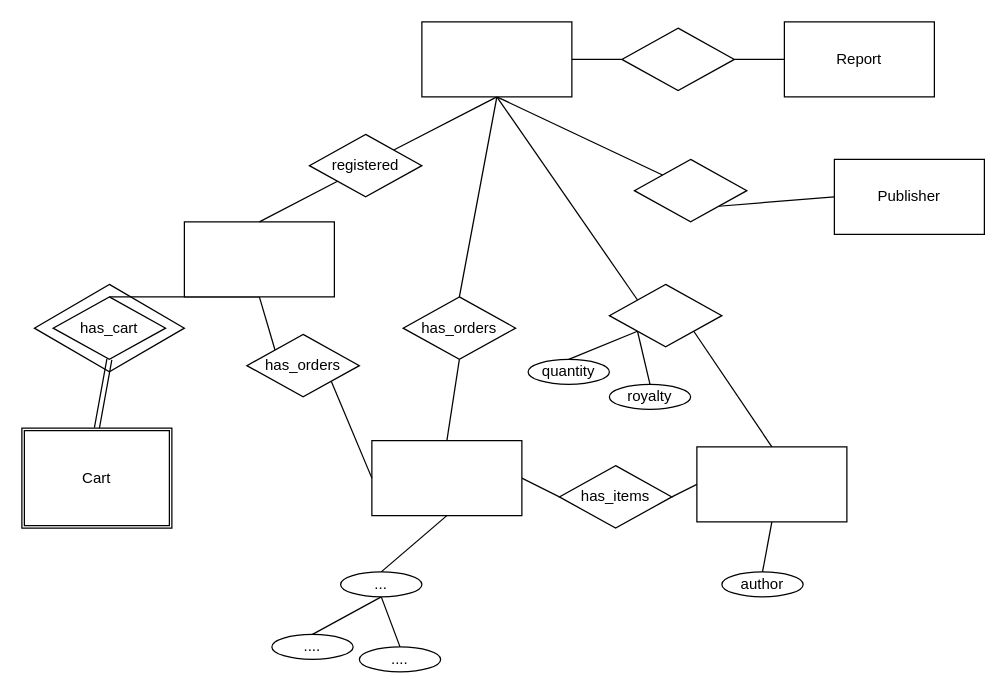
This 1006x694 diagram has some shape labels left out. The box of each missing label's shape, as (x1, y1, x2, y2) in pixels:
Book: (696, 446, 847, 522)
Bookstore: (421, 21, 572, 97)
has_books: (608, 283, 722, 347)
has_publishers: (633, 158, 747, 222)
has_reports: (621, 27, 734, 91)
Order: (371, 439, 522, 516)
User: (183, 221, 334, 297)
